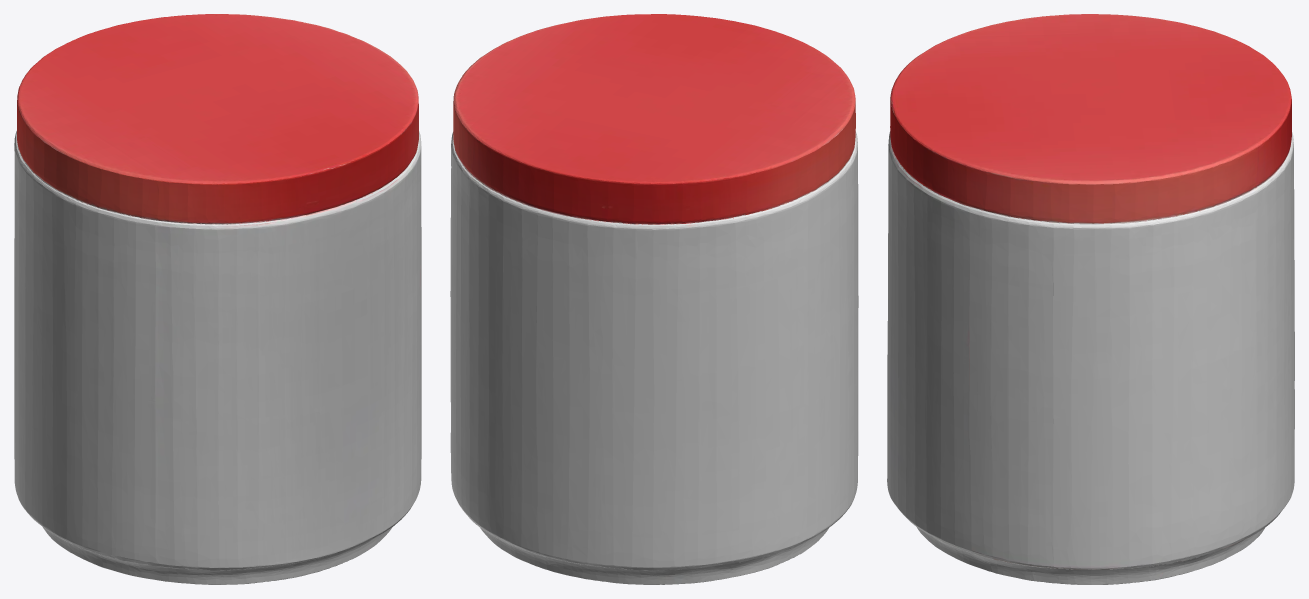
The model's file is dfd3e903-19c9-4f1e-8748-e98c7c037b5a.glb.
The picture shows the model from 3 angles, left to right: view 1: azimuth 30°, elevation 25°; view 2: azimuth 150°, elevation 25°; view 3: azimuth 270°, elevation 25°; orthographic projection.
Parts seen in each view (by area): view 1: world; view 2: world; view 3: world.
Boxes of the visible parts, x1=… form: world: x1=14, y1=14, x2=421, y2=584; world: x1=450, y1=14, x2=858, y2=584; world: x1=887, y1=14, x2=1294, y2=584.
Bounding box in the file's own units: 0.8964 × 1 × 0.8992.
1 material, 1 textured.
